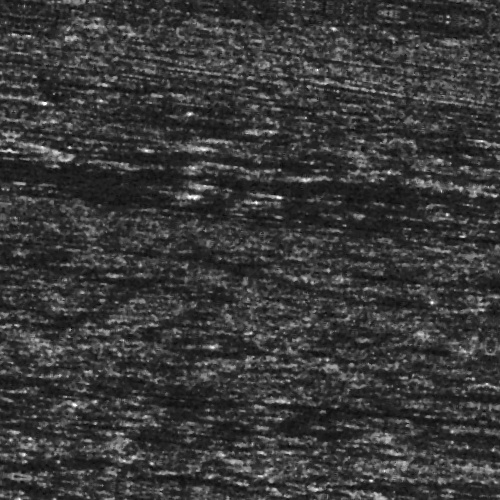object: (177, 140, 218, 143), (176, 147, 187, 156), (487, 369, 500, 376), (497, 394, 500, 397)
shadow: (303, 489, 500, 498), (28, 147, 181, 156), (358, 173, 500, 182), (399, 369, 500, 376), (312, 394, 500, 397), (117, 184, 192, 189), (120, 140, 197, 143)
